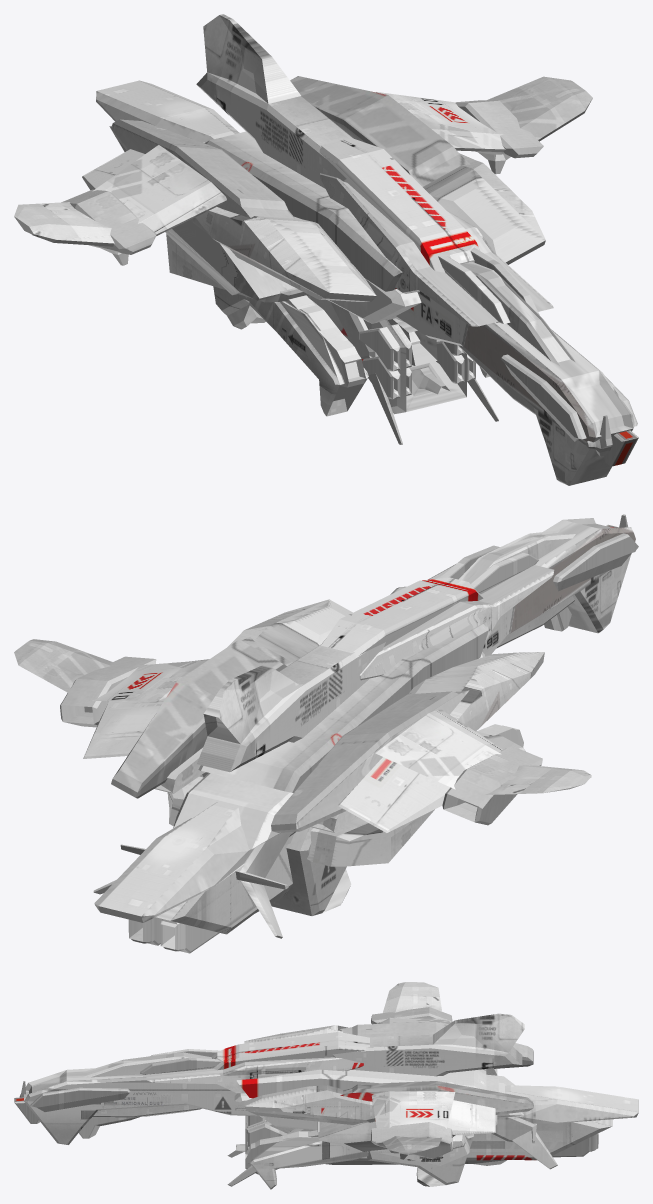
The model's file is bomber.FBX.
3 views of the same model, one above another, from view 1: azimuth 30°, elevation 25°; view 2: azimuth 150°, elevation 25°; view 3: azimuth 270°, elevation 25° (orthographic). The views are drawn at different scales.
Parts seen in each view (by area): view 1: body; view 2: body; view 3: body.
Boxes of the visible parts, x1=… form: body: x1=14, y1=14, x2=638, y2=485; body: x1=14, y1=514, x2=638, y2=953; body: x1=14, y1=982, x2=638, y2=1189.
Size of the model in its own units: 817 by 355 by 1273.
